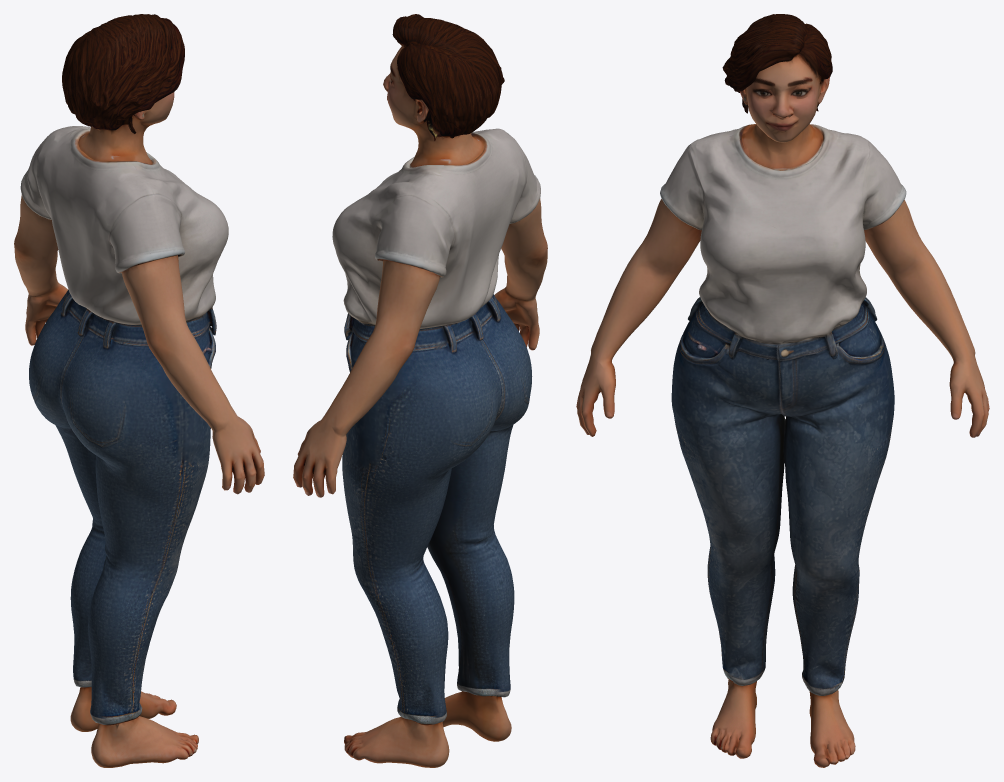
The picture shows the model from 3 angles, left to right: view 1: azimuth 30°, elevation 25°; view 2: azimuth 150°, elevation 25°; view 3: azimuth 270°, elevation 25°; orthographic projection.
Parts seen in each view (by area): view 1: tripo_node_780cfc79-0f2a-464e-b1fe-8b0c619973c3; view 2: tripo_node_780cfc79-0f2a-464e-b1fe-8b0c619973c3; view 3: tripo_node_780cfc79-0f2a-464e-b1fe-8b0c619973c3.
Part boxes in pixels (x1,y1,x2,y2): tripo_node_780cfc79-0f2a-464e-b1fe-8b0c619973c3: [14, 14, 264, 767]; tripo_node_780cfc79-0f2a-464e-b1fe-8b0c619973c3: [293, 14, 547, 767]; tripo_node_780cfc79-0f2a-464e-b1fe-8b0c619973c3: [576, 14, 989, 767].
Size of the model in its own units: 0.3843 by 1.75 by 0.9129.
1 material, 1 textured.
